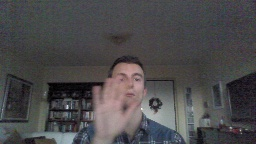Mano_aperta: (90, 76, 142, 138)
